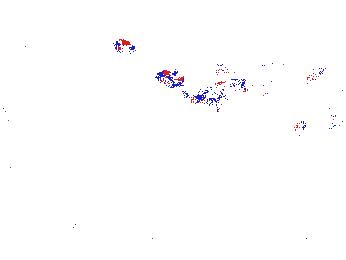X-ray fish: (38, 95, 83, 132), (130, 15, 166, 60)
redtail glassfish: (289, 106, 346, 142), (195, 77, 258, 105), (209, 58, 289, 79), (256, 63, 304, 95), (309, 59, 346, 87)
